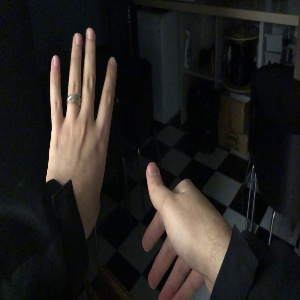hand: (50, 27, 116, 206), (142, 163, 223, 300)
